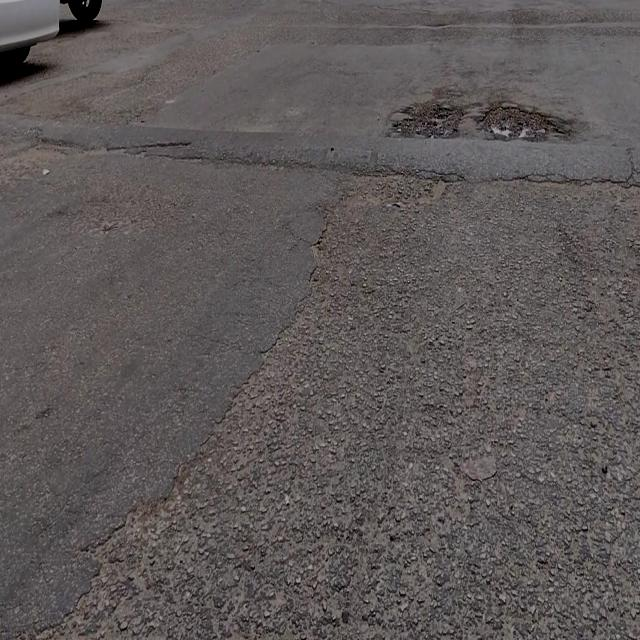Potholes: (478, 105, 570, 139), (390, 99, 462, 136)
